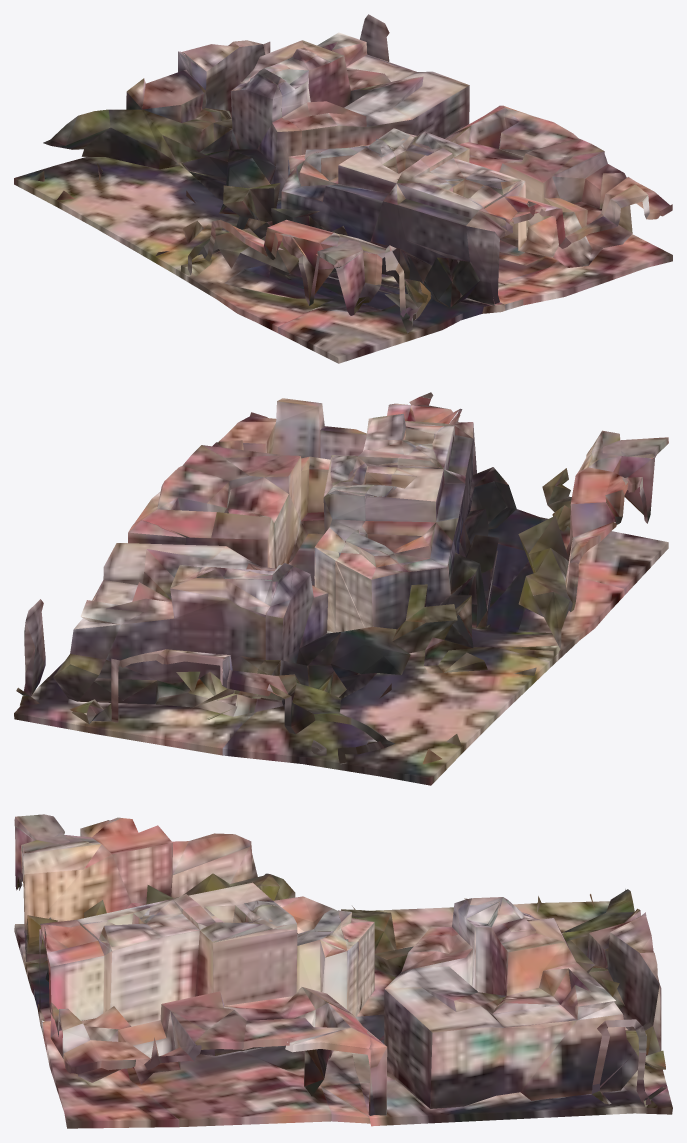
3 renders of one model, top to bottom at view 1: azimuth 30°, elevation 25°; view 2: azimuth 150°, elevation 25°; view 3: azimuth 270°, elevation 25°, orthographic. The views are drawn at different scales.
Visible parts, largest first — view 1: Mesh_0; view 2: Mesh_0; view 3: Mesh_0.
Boxes of the visible parts, <box> form: Mesh_0: <box>14,14,672,363</box>; Mesh_0: <box>14,392,668,785</box>; Mesh_0: <box>14,814,672,1128</box>.
Bounding box in the file's own units: 133 × 36.7 × 165.
1 material, 1 textured.
